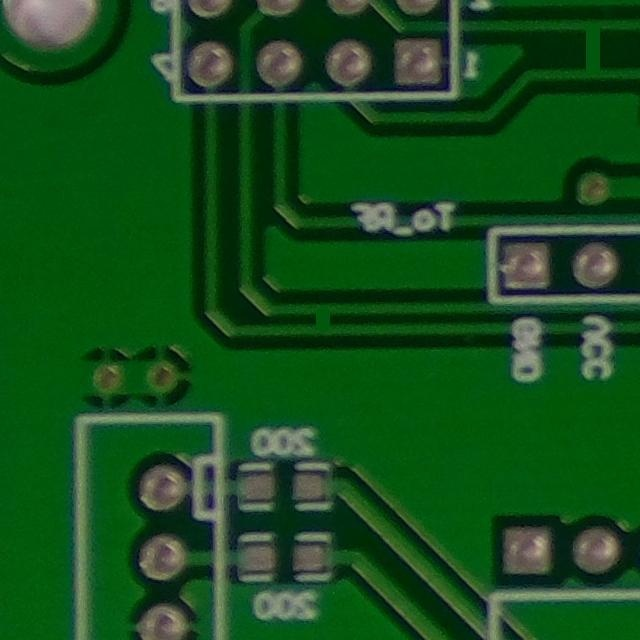short: (286, 294, 355, 345)
